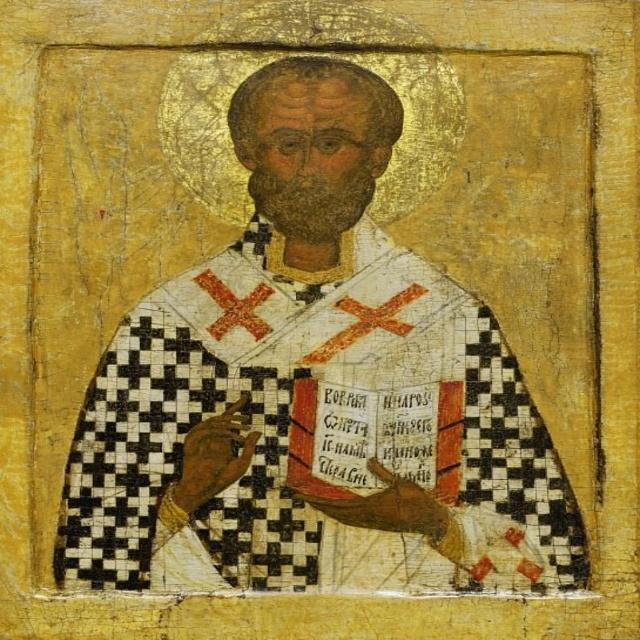apostle: (54, 6, 589, 593)
apostle_face: (229, 54, 404, 251)
aura: (158, 6, 470, 238)
book: (288, 374, 472, 502)
christ_hand: (160, 391, 261, 530)
cross: (303, 281, 441, 366), (191, 266, 279, 339)
